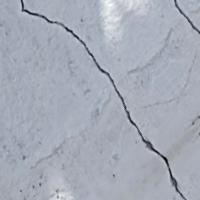crack: (14, 0, 199, 199)
